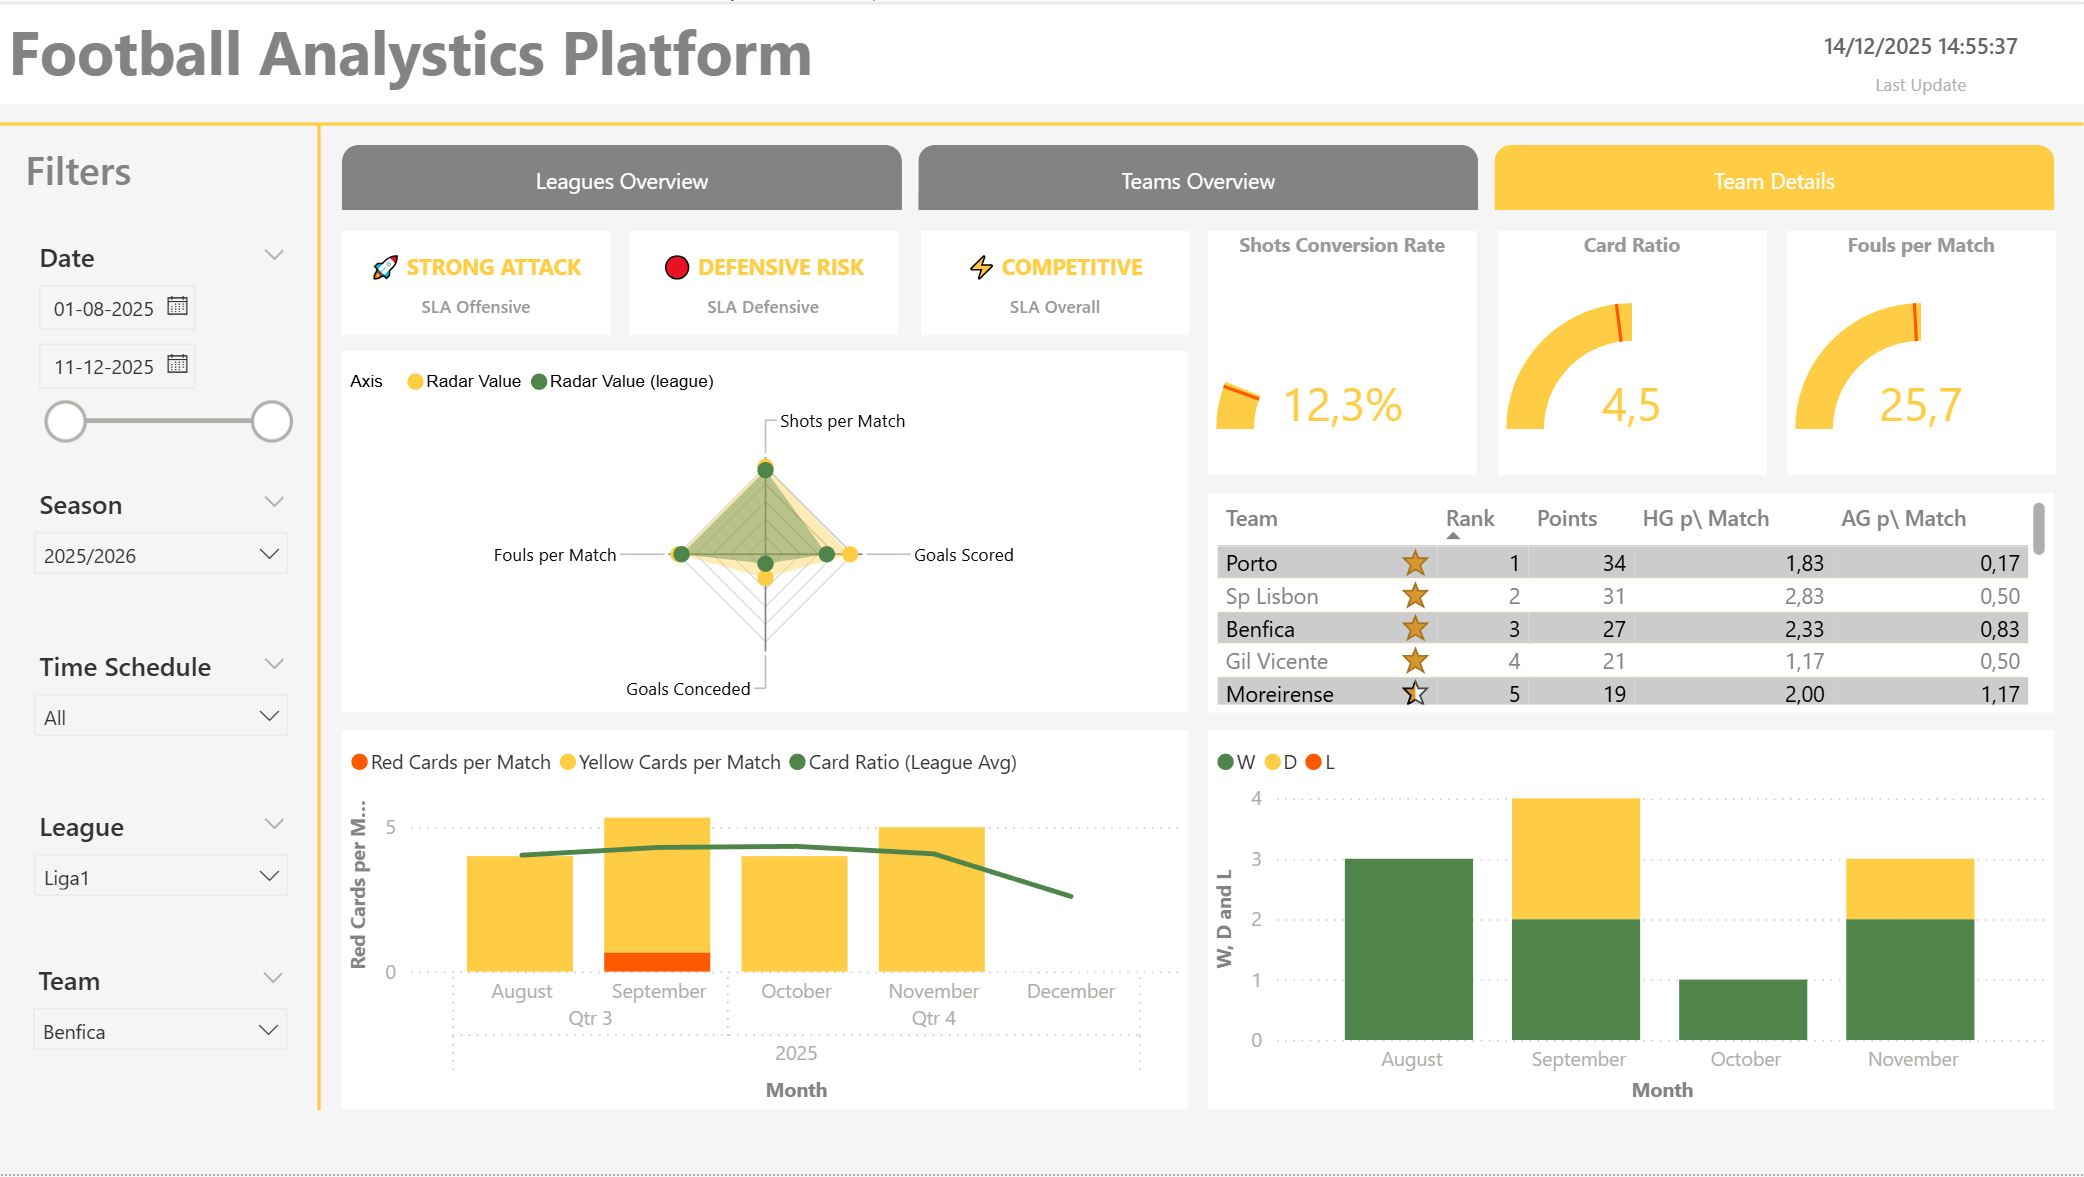

Layout of this report page (visuals, bound fields, positions):
{"tool":"powerbi","page":{"name":"Team Details","canvas":[1280,720],"ordinal":2},"visuals":[{"type":"shape","box":[0,0,1280.3,62.7],"z":0},{"type":"slicer","fields":{"Values":["dim_date.SEASON"]},"box":[10.9,292.7,176.4,90],"z":1000},{"type":"textbox","box":[0,0,787,62.7],"z":2000},{"type":"slicer","title":"League","fields":{"Values":["dim_leagues.LEAGUE_NAME"]},"box":[10.9,490,176.4,89.1],"z":3000},{"type":"pageNavigator","box":[210.1,87.8,1052.4,40.5],"z":4000},{"type":"card","fields":{"Values":["MainMeasures.SLA Offensive"]},"box":[210.1,140.7,164.6,63.9],"z":5000},{"type":"RadarChart1446119667547","title":"Shot CR, Win Rate % & Goals","fields":{"Y":["Radar Metrics.Radar Value","Radar Metrics.Radar Value (league)"],"Category":["Radar Metrics.Metric"]},"box":[210.1,214.4,520.3,222.4],"z":6000},{"type":"columnChart","fields":{"Category":["dim_date.DATE_VALUE.Variation.Date Hierarchy.Year","dim_date.DATE_VALUE.Variation.Date Hierarchy.Quarter","dim_date.DATE_VALUE.Variation.Date Hierarchy.Month","dim_date.DATE_VALUE.Variation.Date Hierarchy.Day"],"Y":["MainMeasures.Wins","MainMeasures.Draws","MainMeasures.Losses"]},"box":[742.1,447.2,520.3,233.4],"z":7000},{"type":"slicer","fields":{"Values":["dim_date.DATE_VALUE"]},"box":[10.9,140.9,176.4,151.8],"z":8000},{"type":"slicer","fields":{"Values":["fact_matches.MATCH_TIME"]},"box":[10.9,391.8,176.4,90],"z":9000},{"type":"card","fields":{"Values":["MainMeasures.SLA Defensive"]},"box":[386.4,140.7,164.6,63.9],"z":10000},{"type":"card","fields":{"Values":["MainMeasures.SLA Overall"]},"box":[565.8,140.7,164.6,63.9],"z":11000},{"type":"gauge","title":"Fouls per Match","fields":{"Y":["MainMeasures.Fouls per Match"],"TargetValue":["MainMeasures.Fouls per Match (League)"]},"box":[1097.8,140.7,164.6,149.9],"z":12000},{"type":"gauge","title":"Card Ratio","fields":{"Y":["MainMeasures.Card ratio"],"TargetValue":["MainMeasures.Card Ratio (League Avg)"]},"box":[920.3,140.7,164.6,149.9],"z":13000},{"type":"gauge","title":"Shots Conversion Rate","fields":{"Y":["MainMeasures.Shot Conversion Rate"],"TargetValue":["MainMeasures.Shot Conversion Rate (League)"]},"box":[742.1,140.7,164.6,149.9],"z":14000},{"type":"slicer","title":"League","fields":{"Values":["dim_teams.TEAM_NAME"]},"box":[10.4,584.8,176.3,90.9],"z":15000},{"type":"lineStackedColumnComboChart","fields":{"Category":["dim_date.DATE_VALUE.Variation.Date Hierarchy.Year","dim_date.DATE_VALUE.Variation.Date Hierarchy.Quarter","dim_date.DATE_VALUE.Variation.Date Hierarchy.Month","dim_date.DATE_VALUE.Variation.Date Hierarchy.Day"],"Y":["MainMeasures.Red Cards per Match","MainMeasures.Yellow Cards per Match"],"Y2":["MainMeasures.Card Ratio (League Avg)"]},"box":[210.1,447.2,520.3,233.4],"z":16000},{"type":"tableEx","fields":{"Values":["dim_teams.TEAM_NAME","MainMeasures.Rank in League","MainMeasures.Points","MainMeasures.Home Goals per Match","MainMeasures.Away Goals per Match"]},"box":[742.1,301.6,520.3,135.2],"z":17000},{"type":"card","fields":{"Values":["MainMeasures.Last Update"]},"box":[1103.3,10.4,153.6,52.2],"z":18000},{"type":"textbox","box":[10.4,81.7,193.5,52.8],"z":19000},{"type":"shape","box":[181.8,74.9,28.3,605.7],"z":20000},{"type":"shape","box":[0,37.5,1280.3,74.9],"z":21000}]}

Visuals, with their boxes in screenshot pixels (x1, y1, x2, y2), scaled from the page's 1280x720 canvas onto the 2084x1177 screenshot:
shape: pyautogui.locateOnScreen(0, 0, 2083, 102)
slicer - dim_date.SEASON: pyautogui.locateOnScreen(18, 478, 305, 626)
textbox: pyautogui.locateOnScreen(0, 0, 1281, 102)
"League" slicer: pyautogui.locateOnScreen(18, 801, 305, 947)
pageNavigator: pyautogui.locateOnScreen(342, 144, 2056, 210)
card - MainMeasures.SLA Offensive: pyautogui.locateOnScreen(342, 230, 610, 334)
"Shot CR, Win Rate % & Goals" RadarChart1446119667547: pyautogui.locateOnScreen(342, 350, 1189, 714)
columnChart - dim_date.DATE_VALUE.Variation.Date Hierarchy.Year x dim_date.DATE_VALUE.Variation.Date Hierarchy.Quarter: pyautogui.locateOnScreen(1208, 731, 2055, 1113)
slicer - dim_date.DATE_VALUE: pyautogui.locateOnScreen(18, 230, 305, 478)
slicer - fact_matches.MATCH_TIME: pyautogui.locateOnScreen(18, 640, 305, 788)
card - MainMeasures.SLA Defensive: pyautogui.locateOnScreen(629, 230, 897, 334)
card - MainMeasures.SLA Overall: pyautogui.locateOnScreen(921, 230, 1189, 334)
"Fouls per Match" gauge: pyautogui.locateOnScreen(1787, 230, 2055, 475)
"Card Ratio" gauge: pyautogui.locateOnScreen(1498, 230, 1766, 475)
"Shots Conversion Rate" gauge: pyautogui.locateOnScreen(1208, 230, 1476, 475)
"League" slicer: pyautogui.locateOnScreen(17, 956, 304, 1105)
lineStackedColumnComboChart - dim_date.DATE_VALUE.Variation.Date Hierarchy.Year x dim_date.DATE_VALUE.Variation.Date Hierarchy.Quarter: pyautogui.locateOnScreen(342, 731, 1189, 1113)
tableEx - dim_teams.TEAM_NAME x MainMeasures.Rank in League: pyautogui.locateOnScreen(1208, 493, 2055, 714)
card - MainMeasures.Last Update: pyautogui.locateOnScreen(1796, 17, 2046, 102)
textbox: pyautogui.locateOnScreen(17, 134, 332, 220)
shape: pyautogui.locateOnScreen(296, 122, 342, 1113)
shape: pyautogui.locateOnScreen(0, 61, 2083, 184)
